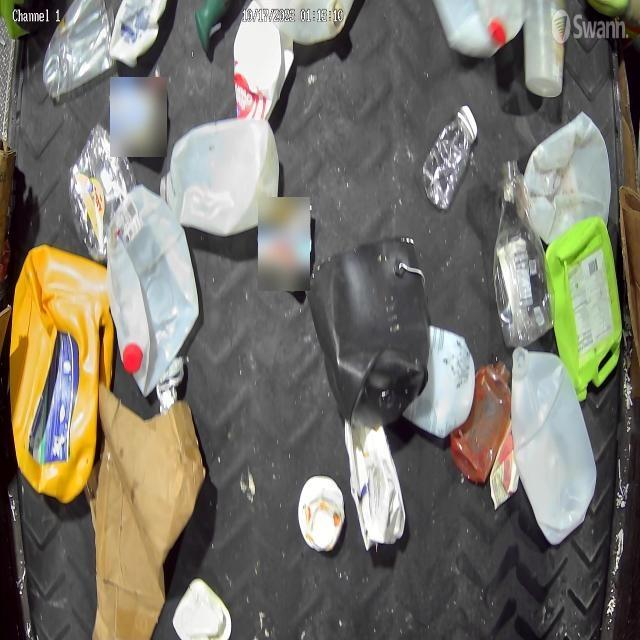milk_jug: (110, 186, 198, 396), (509, 348, 597, 546), (160, 114, 280, 237), (522, 109, 613, 243), (430, 0, 532, 59)
non_white_jug: (11, 241, 111, 502), (306, 236, 429, 427), (545, 217, 623, 400), (493, 160, 554, 350)
plastic_bottle: (420, 103, 480, 213)
